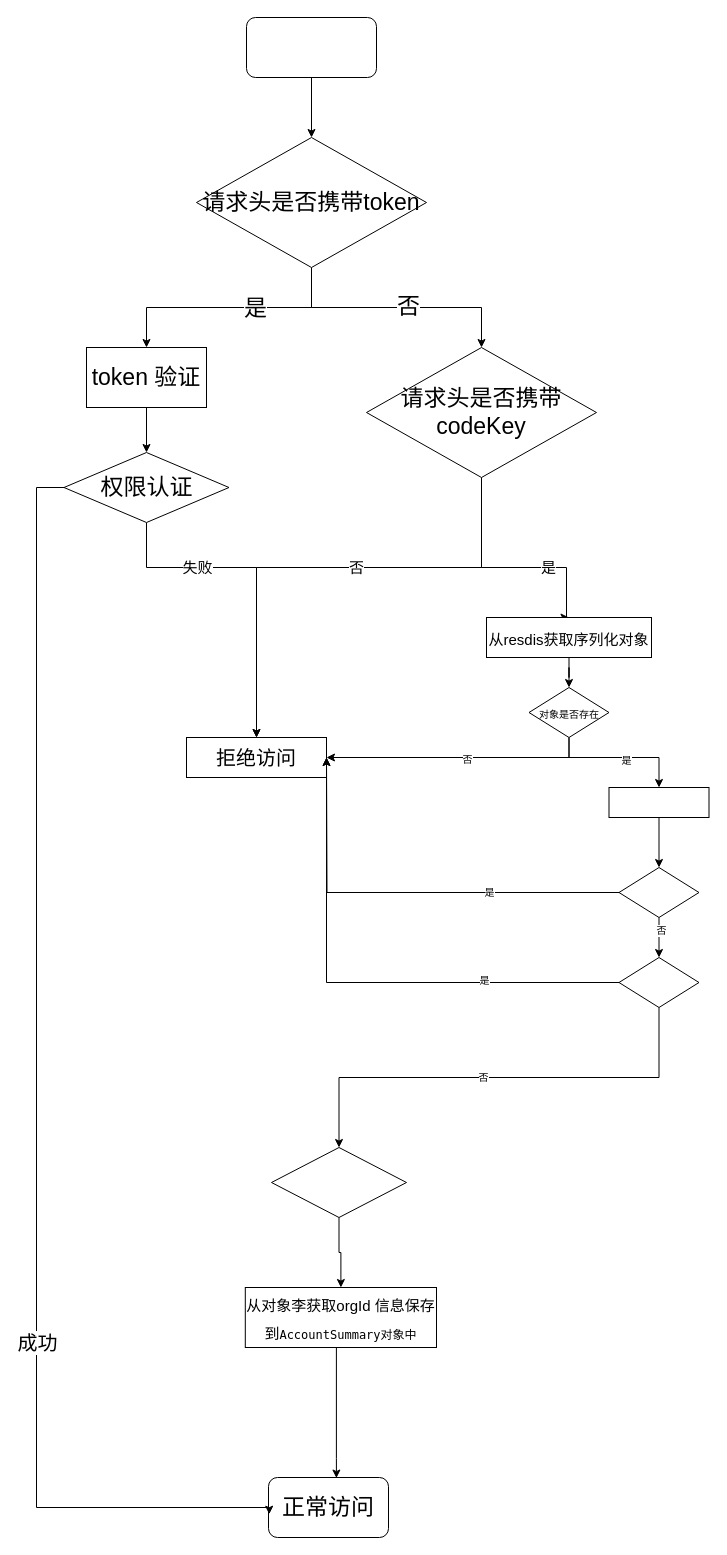
Image size: 727x1555. Some labels were removed from this diagram. Here are the shapes that lost their labels. From the top down, the centre of each, then its label:
At (x=311, y=47): "http请求".
At (x=658, y=802): "Java反序列化".
At (x=658, y=892): "判断提交次数是否超过最大".
At (x=658, y=982): "判断对象是否超时".
At (x=338, y=1182): "最右url匹配原过滤".
